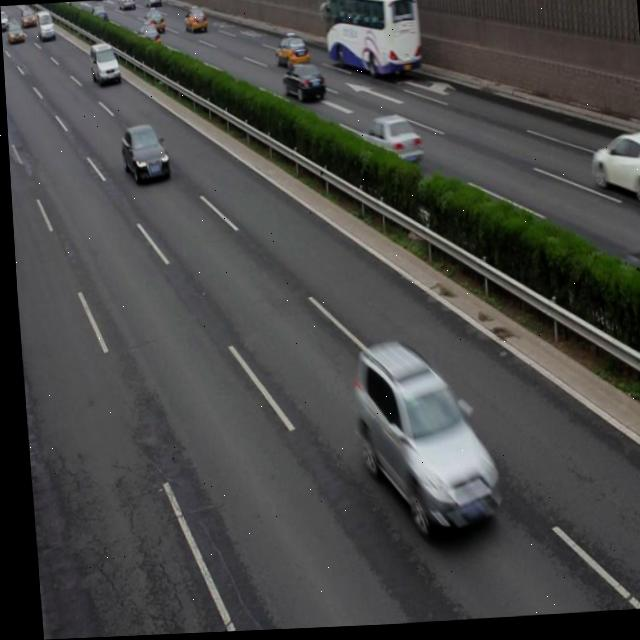car: (345, 341, 495, 542), (587, 139, 640, 206), (117, 125, 168, 186), (361, 116, 419, 169), (280, 64, 323, 103), (272, 33, 307, 72), (135, 22, 159, 49), (184, 8, 206, 37), (142, 9, 164, 33)
truck: (88, 44, 120, 86)
van: (315, 0, 419, 80)
